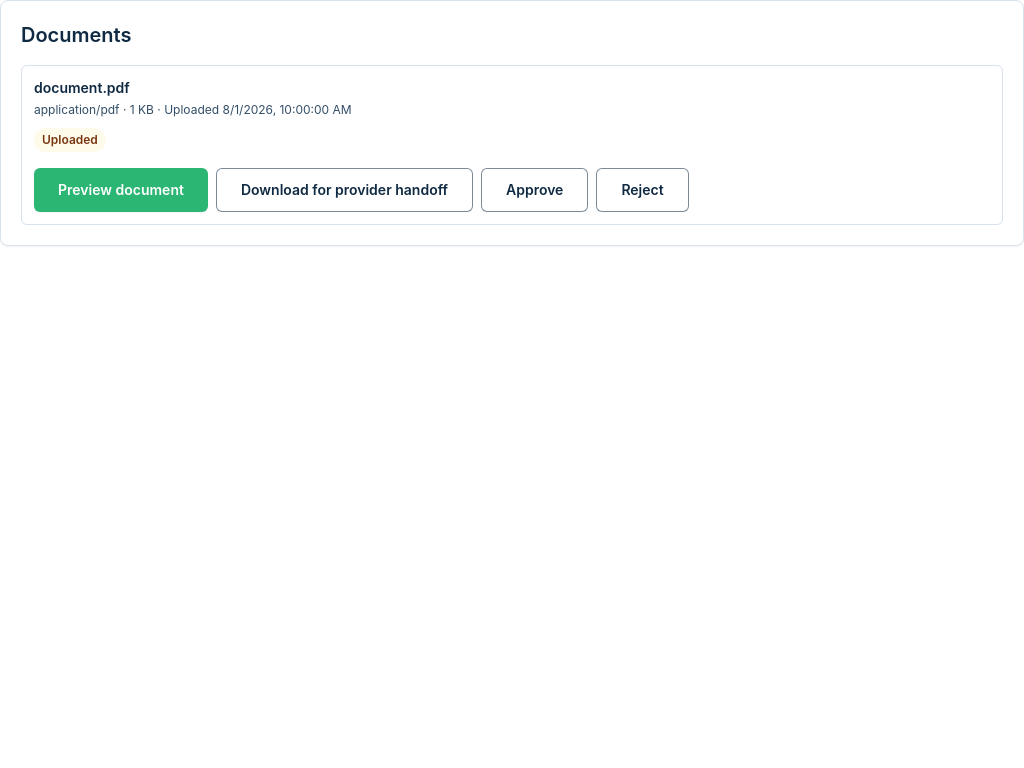
Scenario: AdminAppointmentDocumentsCard › restores the review controls with a safe failure message
Click the button "Approve" at (535, 190), box top-left (481, 168), bottom-right (588, 212)
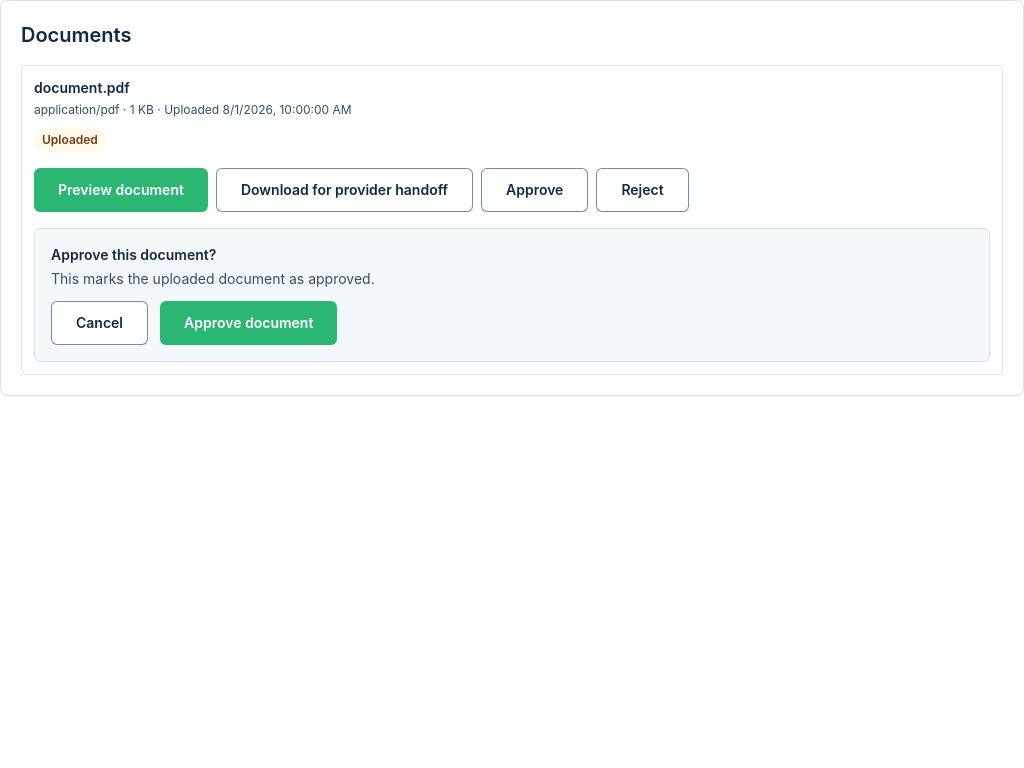
Click the button "Approve document" at (249, 323), box top-left (160, 301), bottom-right (337, 345)
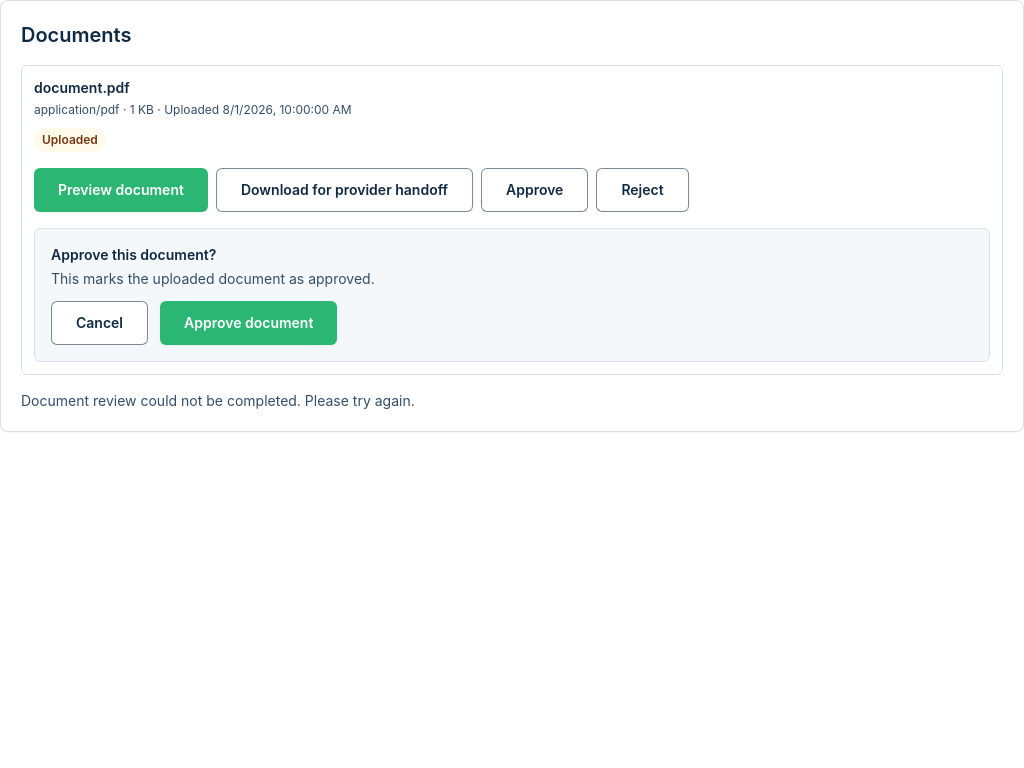
Expected: the button "Approve" is enabled, top-left (481, 168), bottom-right (588, 212)
Result: the message reads "Document review could not be completed. Please try again." at top-left (21, 392), bottom-right (415, 409)
